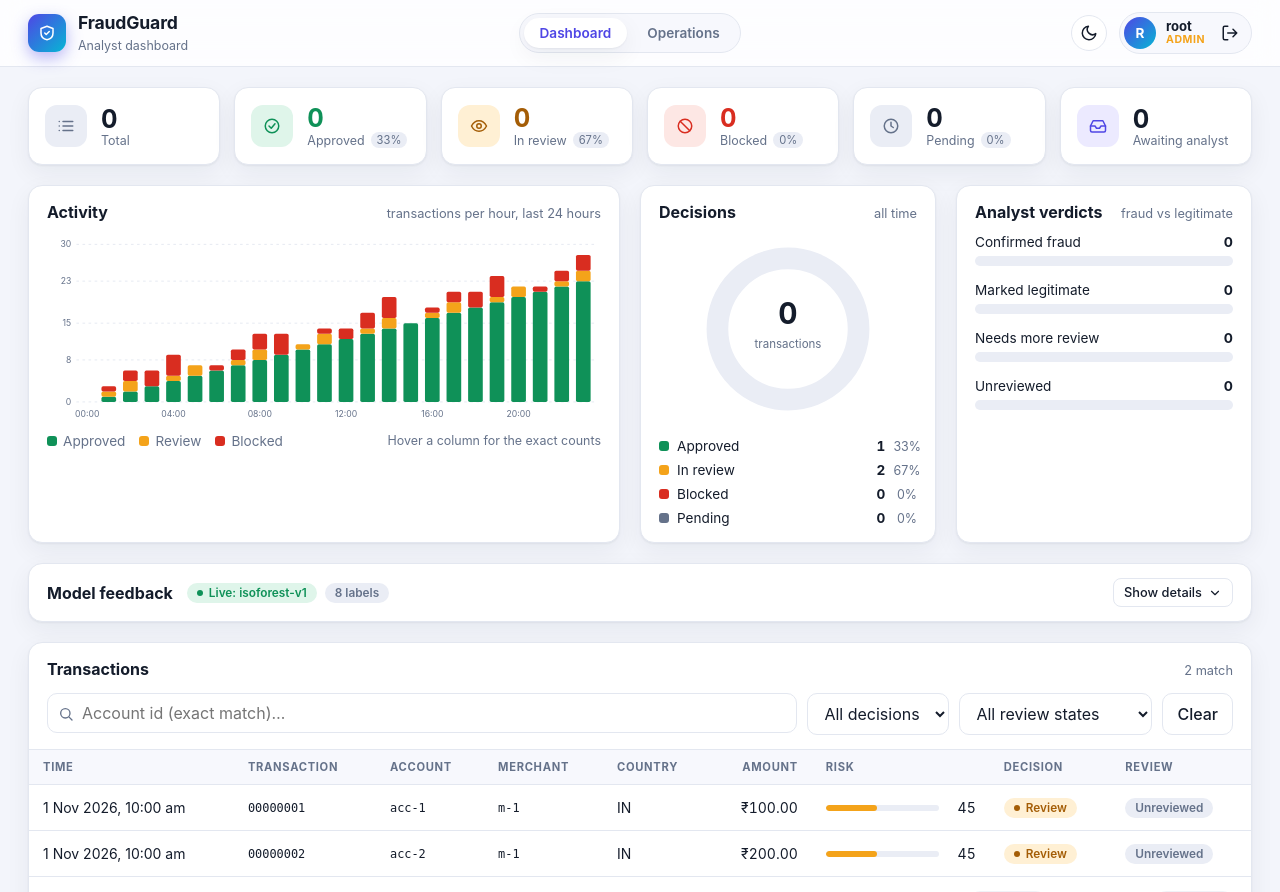
Test case: training data export › downloads the labels as a JSON file
The width and height of the screenshot is (1280, 892).
Click the button "Operations": [683, 33] box [631, 18, 736, 48]
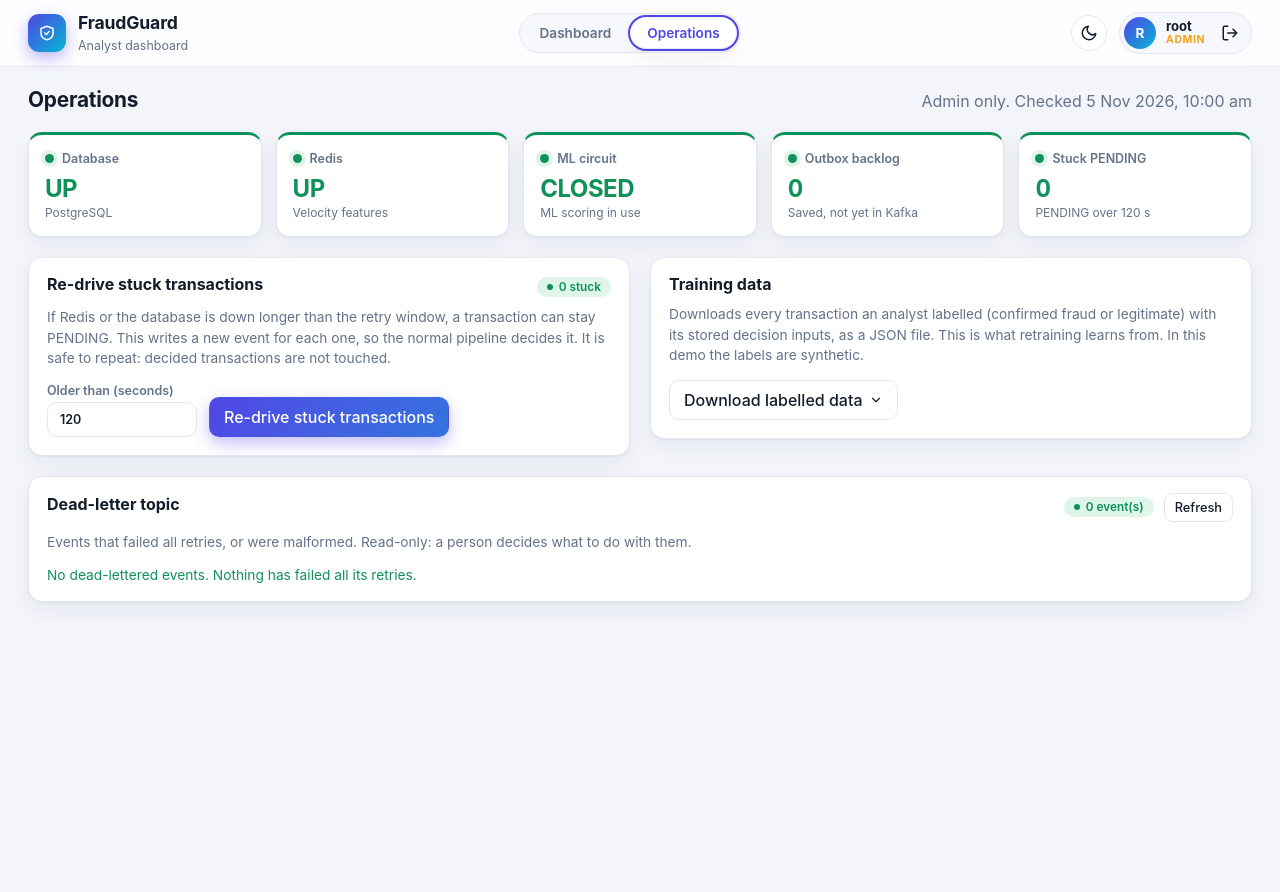
Click the button "Download labelled data": [783, 400] box [669, 380, 898, 420]
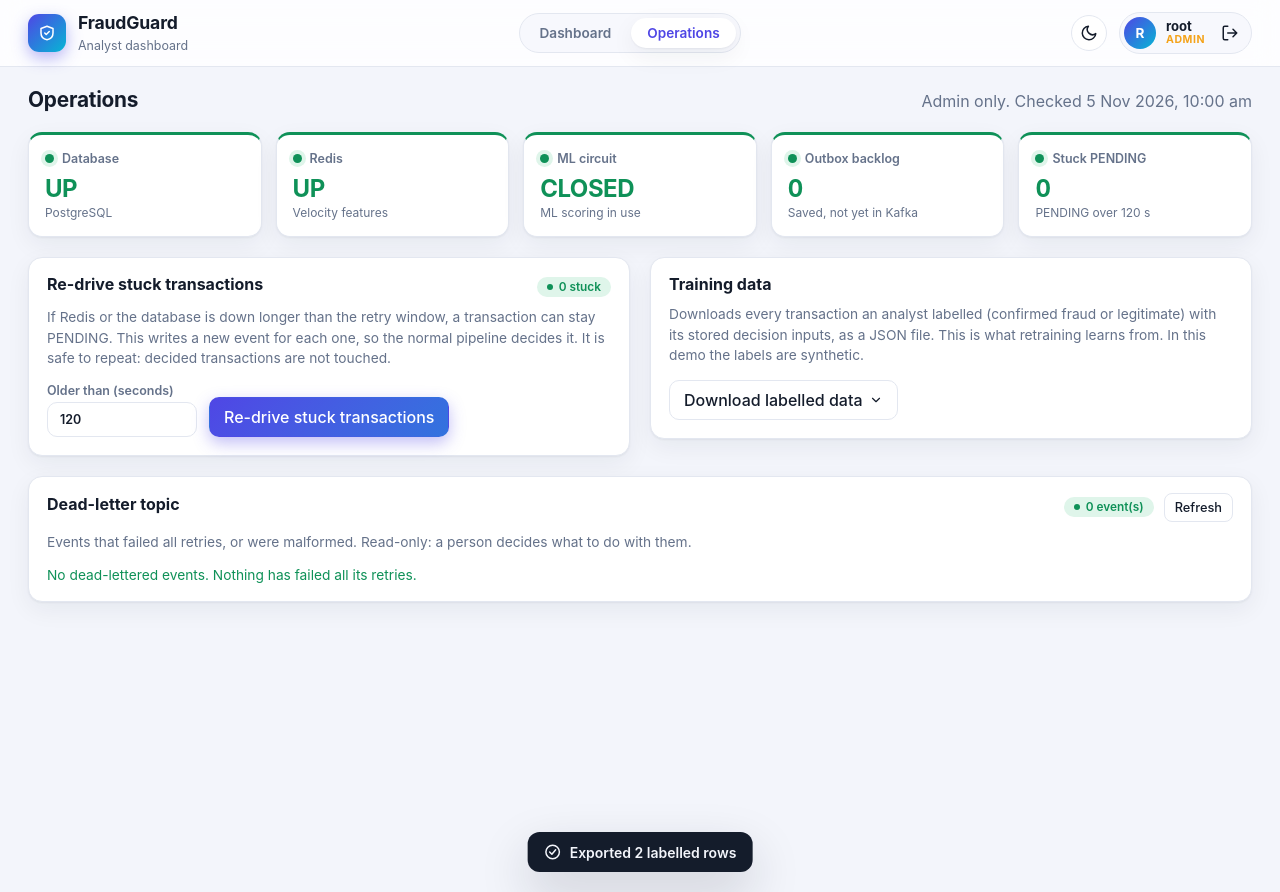
Now the text "Exported 2 labelled rows" is shown, box [528, 832, 752, 872]
